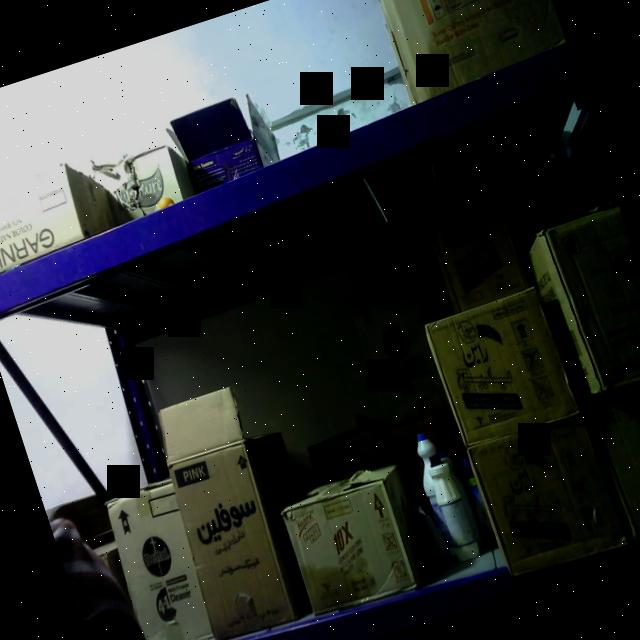box: (149, 384, 301, 640), (462, 402, 633, 586), (420, 282, 585, 456), (367, 0, 571, 109), (277, 473, 419, 621), (537, 200, 640, 395), (100, 478, 218, 640), (342, 271, 454, 428), (419, 187, 532, 314), (583, 371, 640, 551)
